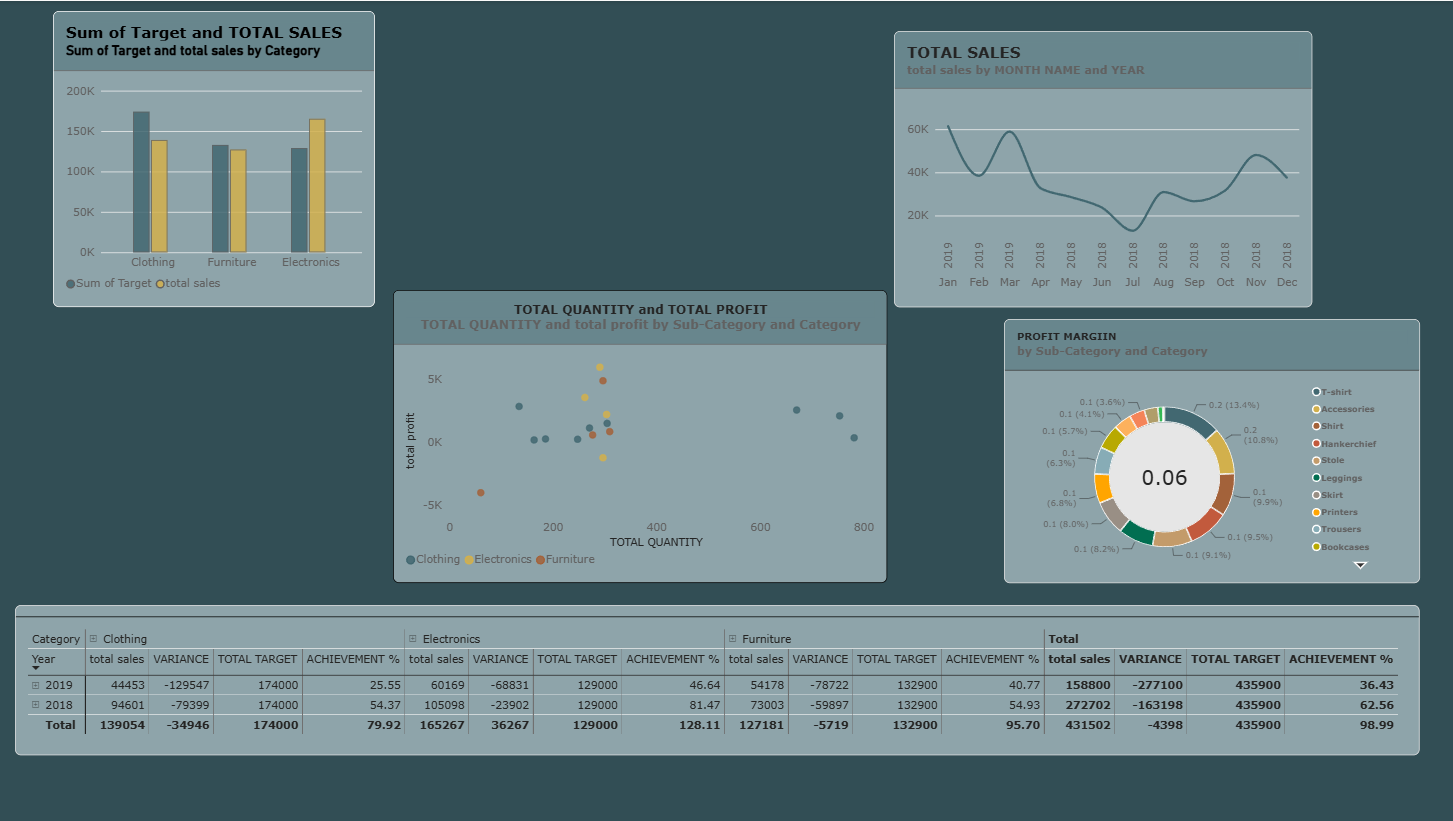

This screenshot's page, from the dashboard's own definition file:
{"tool":"powerbi","page":{"name":"VISUALIZATION","canvas":[1920,1080],"ordinal":1},"visuals":[{"type":"clusteredColumnChart","title":"Sum of Target and TOTAL SALES","fields":{"Category":["Sales target (1).Category"],"Y":["Sum(Sales target (1).Target)","Order Details (1).total sales"]},"box":[75.1,13.2,424.1,389.9],"z":0},{"type":"donutChart","fields":{"Category":["Order Details (1).Sub-Category"],"Series":["Order Details (1).Category"],"Y":["Order Details (1).PROFIT MARGIIN"]},"box":[1327.6,418.8,547.9,347.7],"z":1000},{"type":"lineChart","title":"TOTAL SALES","fields":{"Category":["DATE TABLE.MONTH NAME","DATE TABLE.YEAR"],"Y":["Order Details (1).total sales"]},"box":[1182.7,39.5,550.5,363.5],"z":2000},{"type":"scatterChart","title":"TOTAL QUANTITY and TOTAL PROFIT","fields":{"Category":["Order Details (1).Sub-Category"],"Series":["Order Details (1).Category"],"X":["Order Details (1).TOTAL QUANTITY"],"Y":["Order Details (1).total profit"]},"box":[522.9,380.6,650.6,385.9],"z":3000},{"type":"pivotTable","fields":{"Columns":["Order Details.Category","Order Details.Sub-Category"],"Rows":["DATE TABLE.Date.Variation.Date Hierarchy.Year","DATE TABLE.Date.Variation.Date Hierarchy.Month"],"Values":["Order Details.total sales","Order Details.VARIANCE","Sales target.TOTAL TARGET","Order Details.ACHIEVEMENT %"]},"box":[25,795.5,1850.5,197.6],"z":4000}]}

Visuals, with their boxes in screenshot pixels (x1, y1, x2, y2), scaled from the page's 1920x1080 canvas onto the 1453x821 screenshot:
"Sum of Target and TOTAL SALES" clusteredColumnChart: locate(57, 10, 378, 306)
donutChart - Order Details (1).Sub-Category x Order Details (1).Category: locate(1005, 318, 1419, 583)
"TOTAL SALES" lineChart: locate(895, 30, 1312, 306)
"TOTAL QUANTITY and TOTAL PROFIT" scatterChart: locate(396, 289, 888, 583)
pivotTable - Order Details.Category x Order Details.Sub-Category: locate(19, 605, 1419, 755)
